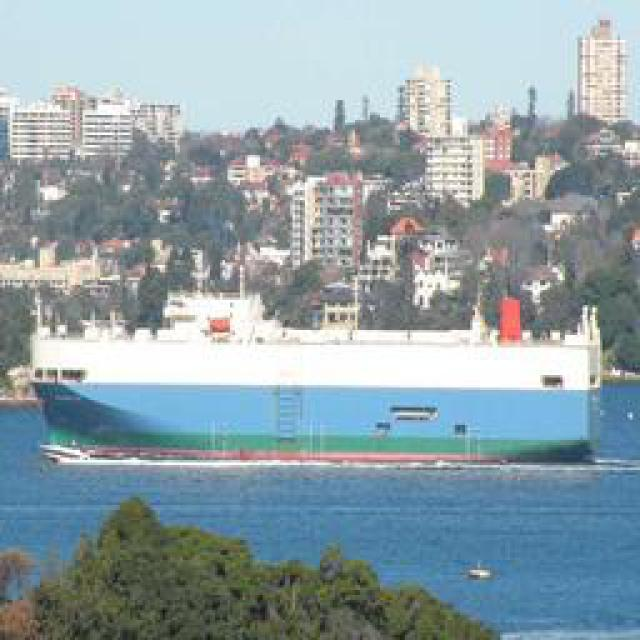Ship: (21, 296, 624, 479)
